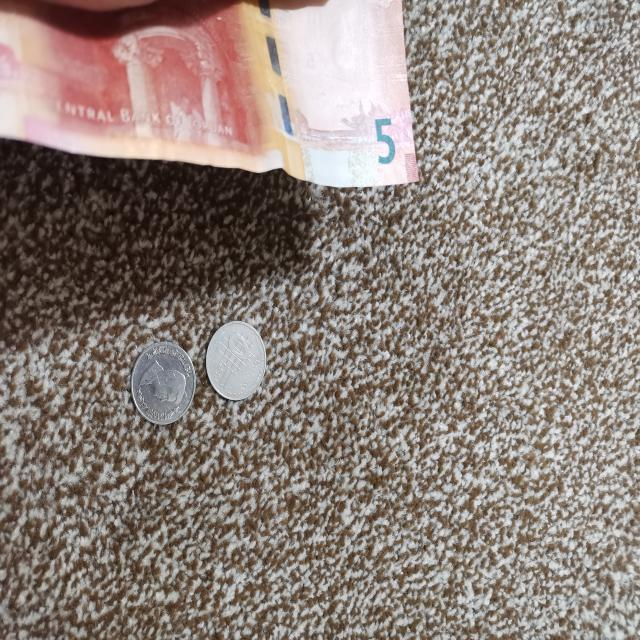5-coins: (130, 343, 199, 426), (206, 321, 267, 402)
5-dinar: (0, 0, 423, 187)
